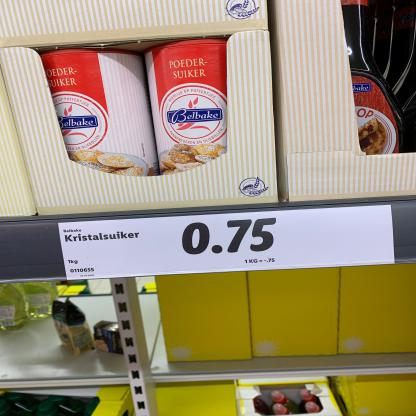prtg: (58, 206, 396, 282)
